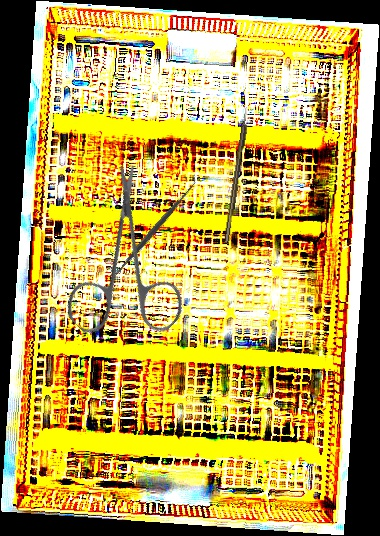Hook Surgical: (223, 106, 251, 243)
Iris Scissors: (18, 160, 232, 373)
Spatula Surgical: (102, 173, 205, 288)
